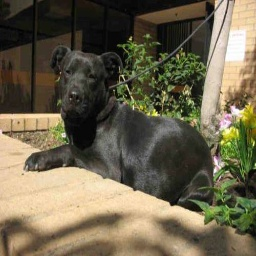dog: (24, 45, 212, 211)
